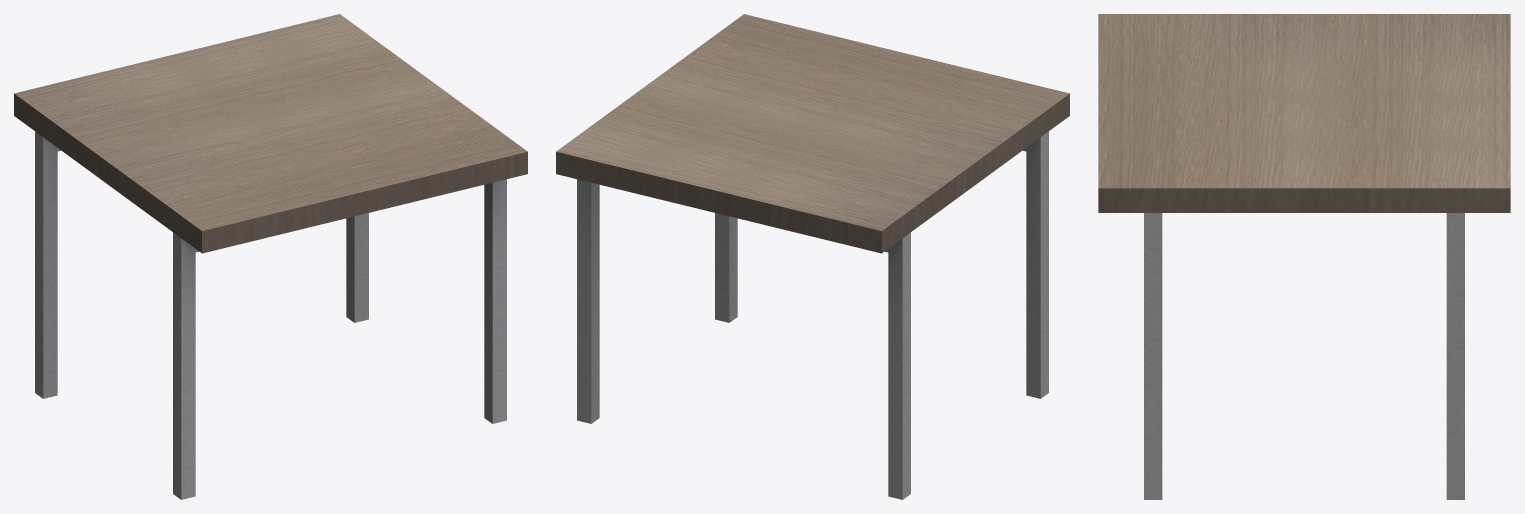
The model's file is Table_Square.gltf.
The picture shows the model from 3 angles, left to right: view 1: azimuth 30°, elevation 25°; view 2: azimuth 150°, elevation 25°; view 3: azimuth 270°, elevation 25°; orthographic projection. The views are drawn at different scales.
Parts seen in each view (by area): view 1: squareTable; view 2: squareTable; view 3: squareTable.
Part boxes in pixels (box(x1,y1,x2,y2)): squareTable: box(14, 14, 527, 499); squareTable: box(556, 14, 1069, 499); squareTable: box(1098, 14, 1510, 499).
Bounding box in the file's own units: 9 × 7.5 × 9.
1 material, 1 textured.
